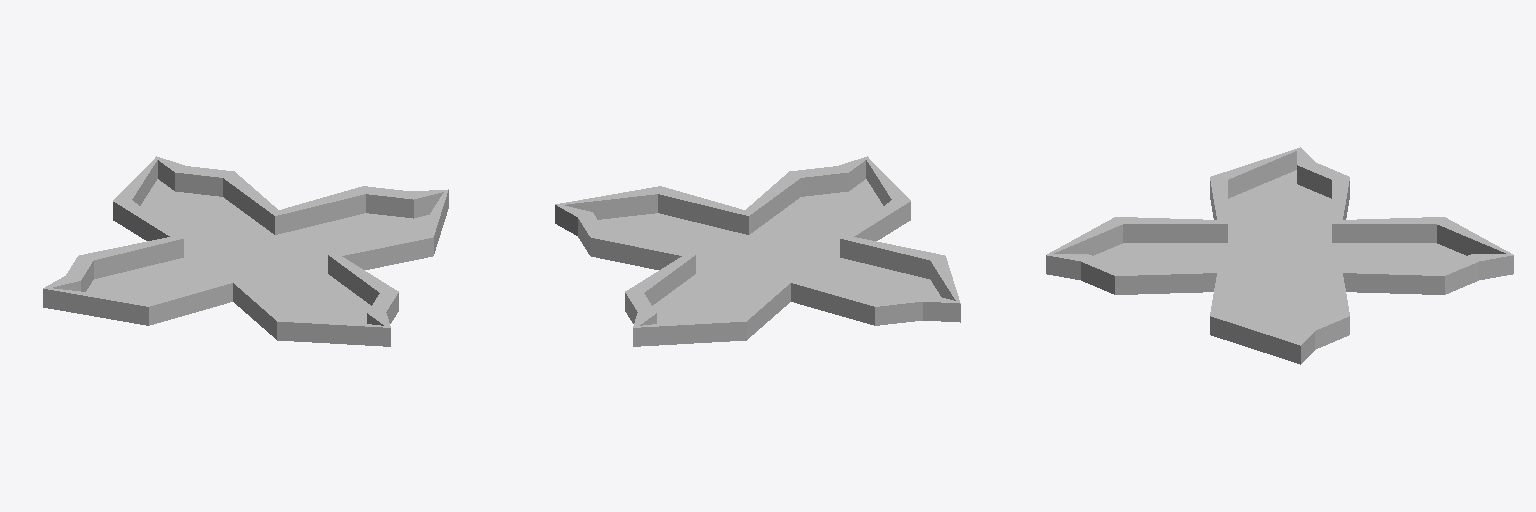
Rendered from TallMiddleRoof.obj.
The picture shows the model from 3 angles: view 1: azimuth 30°, elevation 25°; view 2: azimuth 150°, elevation 25°; view 3: azimuth 270°, elevation 25°; orthographic projection.
Parts seen in each view (by area): view 1: TallMiddleRoof KA_BLDG8_grp KA_BLDG8_Architect; view 2: TallMiddleRoof KA_BLDG8_grp KA_BLDG8_Architect; view 3: TallMiddleRoof KA_BLDG8_grp KA_BLDG8_Architect.
Part boxes in pixels (bbox=[...]): TallMiddleRoof KA_BLDG8_grp KA_BLDG8_Architect: bbox=[43, 156, 448, 346]; TallMiddleRoof KA_BLDG8_grp KA_BLDG8_Architect: bbox=[555, 156, 960, 346]; TallMiddleRoof KA_BLDG8_grp KA_BLDG8_Architect: bbox=[1046, 147, 1513, 364].
Size of the model in its own units: 2509 by 112 by 2509.